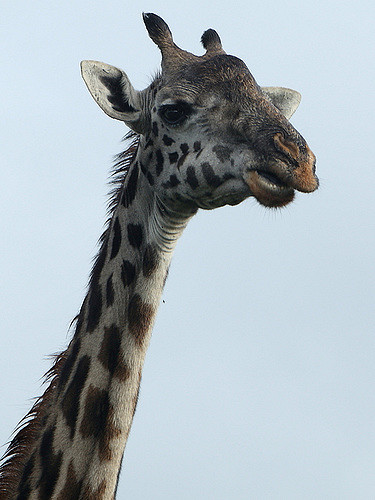giraffe: (72, 23, 338, 478)
